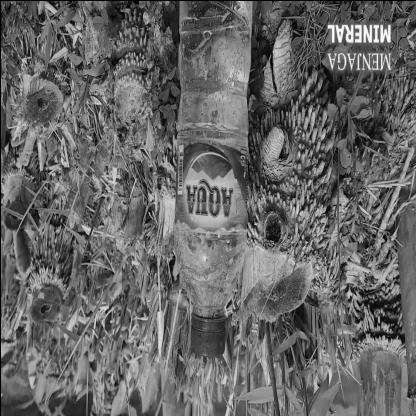plastic_bottles: (168, 0, 254, 360)
